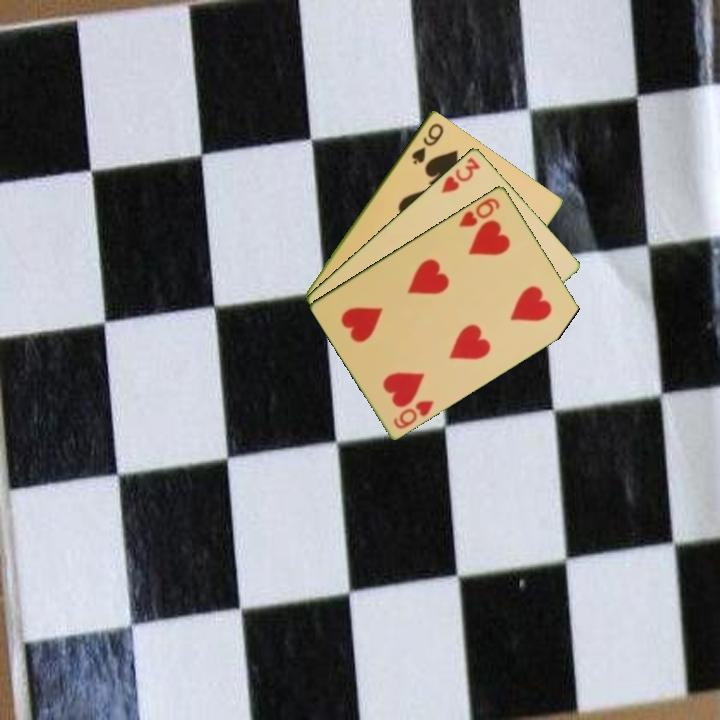3h: (438, 154, 483, 196)
6h: (455, 194, 503, 230), (390, 396, 437, 431)
9s: (408, 119, 447, 167)
